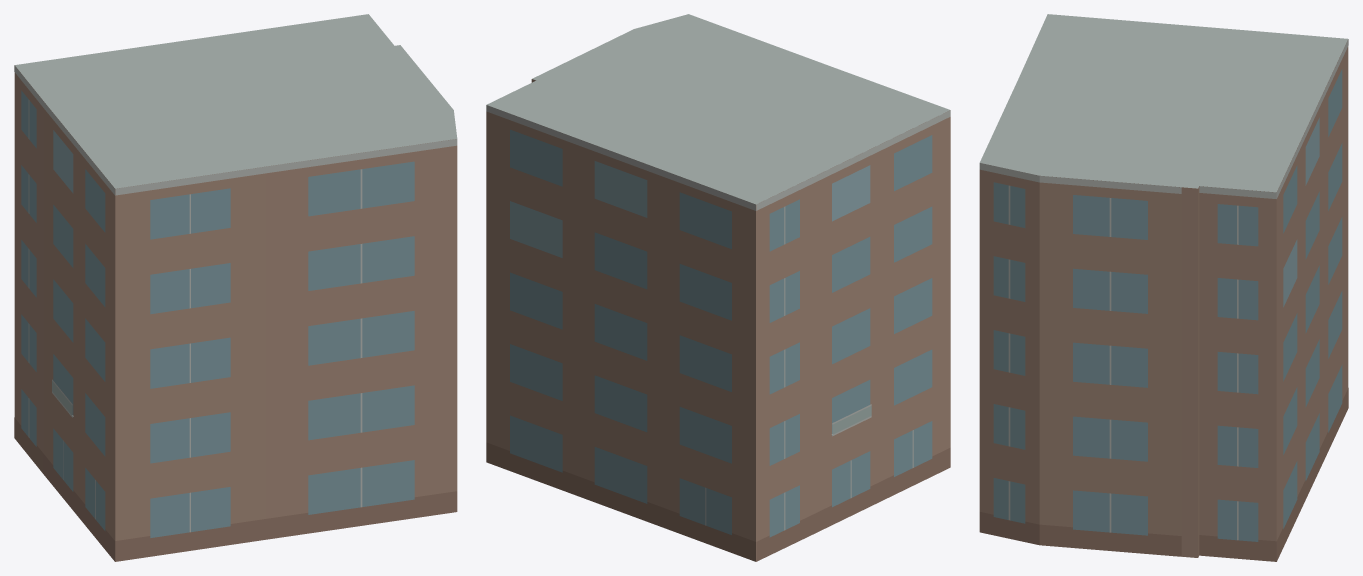
Rendered from survey-upis-33014054.glb.
3 views of the same model, side by side, from view 1: azimuth 30°, elevation 25°; view 2: azimuth 150°, elevation 25°; view 3: azimuth 270°, elevation 25° (orthographic). The views are drawn at different scales.
Visible parts, largest first — view 1: survey-upis-33014054.tmp; view 2: survey-upis-33014054.tmp; view 3: survey-upis-33014054.tmp.
Part boxes in pixels (box(x1,y1,x2,y2)): survey-upis-33014054.tmp: box(14, 14, 457, 561); survey-upis-33014054.tmp: box(486, 14, 950, 561); survey-upis-33014054.tmp: box(979, 14, 1348, 561).
Size of the model in its own units: 13.78 by 13.3 by 12.04.
